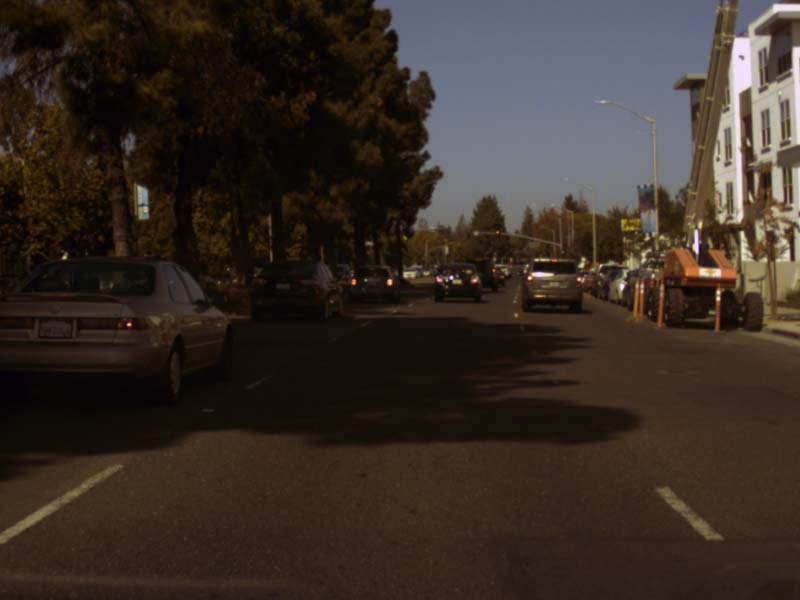Red: (467, 229, 470, 237), (495, 230, 499, 235)
